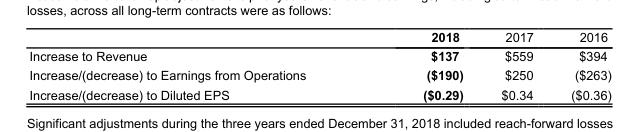table: (28, 29, 610, 101)
table column: (28, 29, 363, 101), (363, 29, 481, 101), (481, 29, 551, 101), (551, 29, 610, 101)
table column header: (28, 29, 610, 46)
table row: (28, 46, 610, 65), (28, 65, 610, 84), (28, 29, 610, 46), (28, 84, 610, 101)
